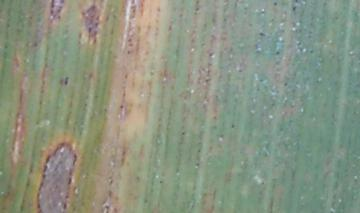tarspot: (194, 5, 203, 14), (63, 75, 70, 86), (257, 30, 266, 38), (206, 51, 214, 58), (55, 13, 62, 21), (122, 71, 129, 79), (126, 41, 135, 47), (291, 5, 298, 12), (229, 122, 236, 129), (179, 130, 187, 136), (273, 50, 280, 56), (282, 80, 288, 87), (118, 103, 124, 110), (126, 49, 132, 56), (149, 70, 156, 76), (272, 1, 278, 7), (308, 48, 313, 54), (126, 37, 132, 42), (294, 1, 298, 3)
